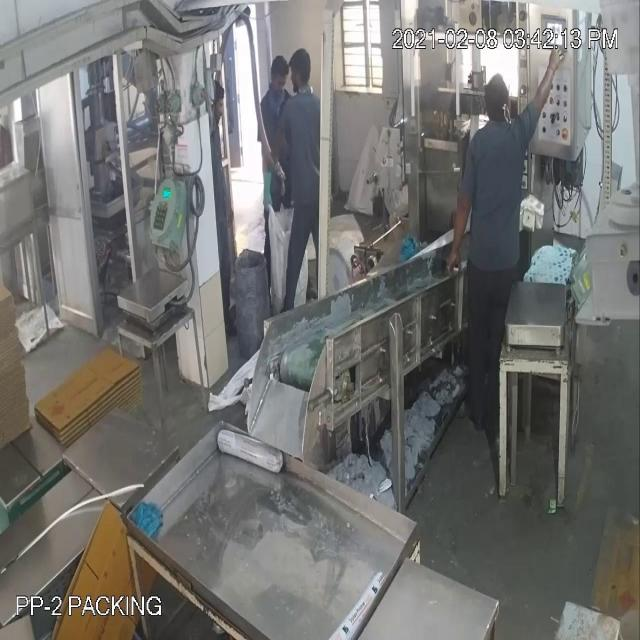No_Gloves: (30, 78, 549, 229)
